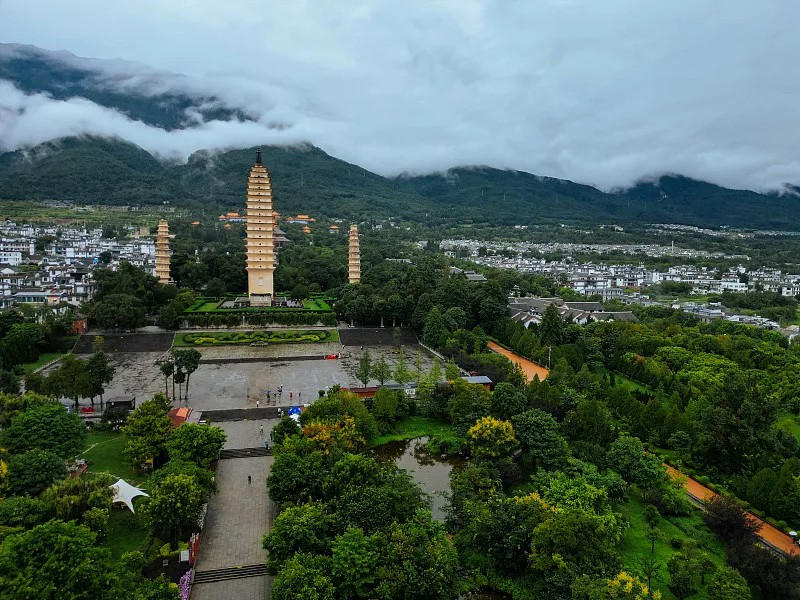ThreePagoda: (243, 147, 277, 298)
